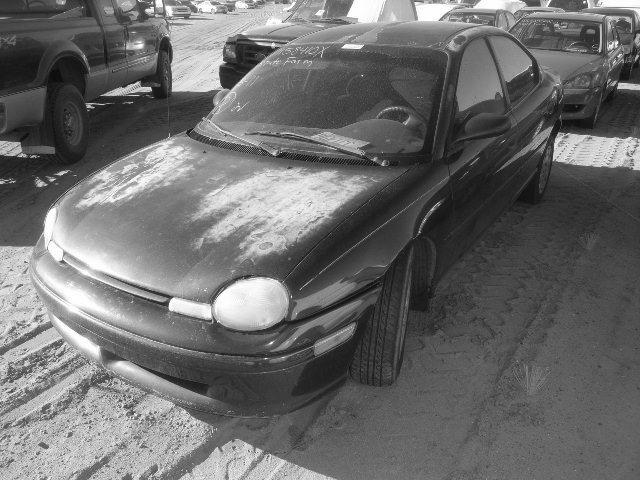car: (29, 21, 564, 423)
